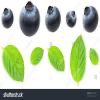Blueberry leaf: (69, 31, 87, 87), (2, 44, 26, 85), (46, 44, 66, 75), (29, 45, 44, 70), (89, 46, 99, 71)
